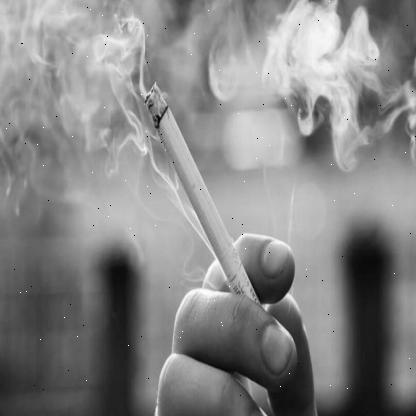smoke: (0, 2, 179, 213), (255, 0, 408, 183)
